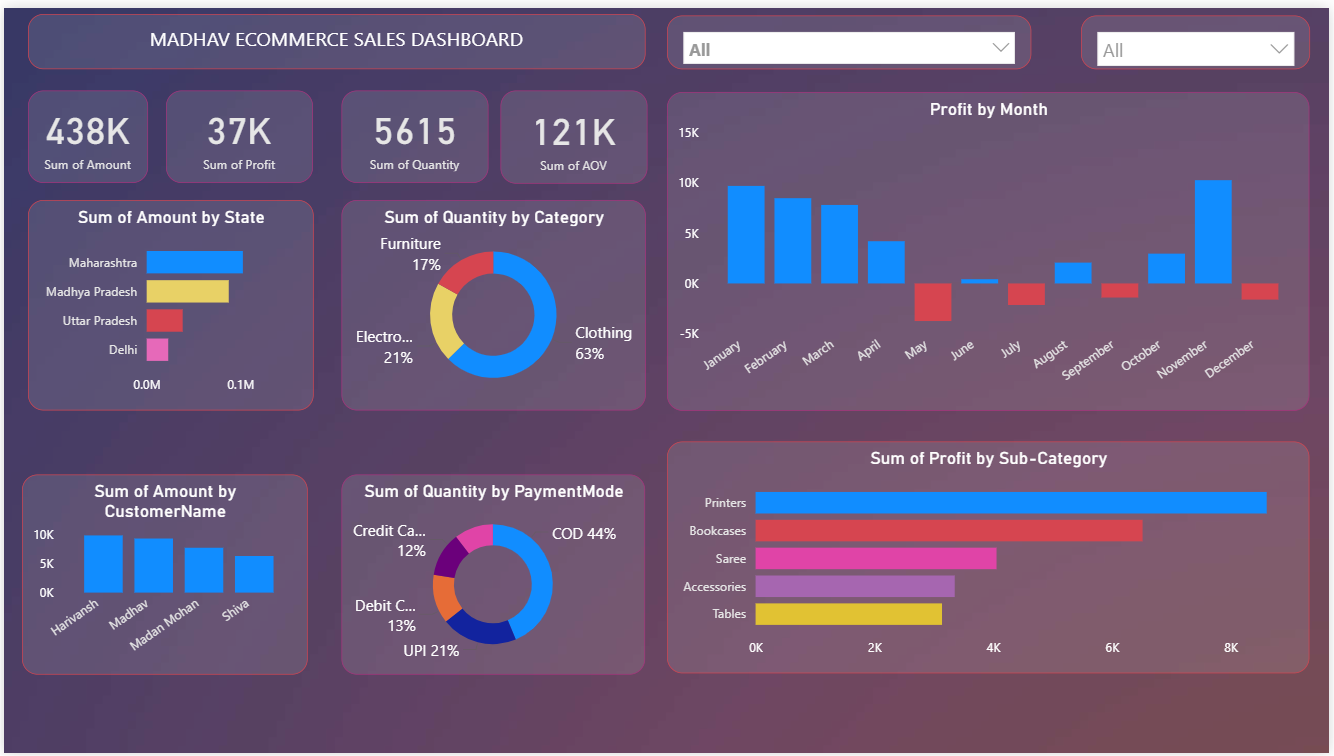

What the dashboard file says about the page in this screenshot:
{"tool":"powerbi","page":{"name":"Page 1","canvas":[1280,720],"ordinal":0},"visuals":[{"type":"columnChart","title":" Profit by Month","fields":{"Y":["Details.Profit"],"Category":["Orders.Order Date.Variation.Date Hierarchy.Month"]},"box":[640.3,80.6,621,308.1],"z":0},{"type":"barChart","fields":{"Category":["Details.Sub-Category"],"Y":["Details.Profit"]},"box":[640.3,419.4,621,224.2],"z":1000},{"type":"donutChart","fields":{"Category":["Details.Category"],"Y":["Details.Quantity"]},"box":[326,185,294,203],"z":2000},{"type":"donutChart","fields":{"Y":["Details.Quantity"],"Category":["Details.PaymentMode"]},"box":[325.8,450,293.5,193.5],"z":3000},{"type":"card","fields":{"Values":["Details.Amount"]},"box":[23,80,116,89],"z":4000},{"type":"card","fields":{"Values":["Details.Profit"]},"box":[157,80,142,89],"z":5000},{"type":"card","fields":{"Values":["Details.Quantity"]},"box":[326,80,142,89],"z":6000},{"type":"card","fields":{"Values":["Details.AOV"]},"box":[479,80,142,90],"z":7000},{"type":"barChart","fields":{"Category":["Orders.State"],"Y":["Details.Amount"]},"box":[23,185,276,203],"z":8000},{"type":"columnChart","fields":{"Category":["Orders.CustomerName"],"Y":["Details.Amount"]},"box":[17.7,450,275.8,193.5],"z":9000},{"type":"textbox","box":[22.6,6.5,596.8,53.2],"z":10000},{"type":"slicer","fields":{"Values":["Orders.Order Date.Variation.Date Hierarchy.Month"]},"box":[641.1,7.1,351.8,51.8],"z":11000},{"type":"slicer","fields":{"Values":["Orders.State"]},"box":[1041.1,7.1,221.4,51.8],"z":12000}]}

Visuals, with their boxes in screenshot pixels (x1, y1, x2, y2), scaled from the page's 1280x720 canvas onto the 1334x756 screenshot:
" Profit by Month" columnChart: detection(667, 85, 1315, 408)
barChart - Details.Sub-Category x Details.Profit: detection(667, 440, 1315, 676)
donutChart - Details.Category x Details.Quantity: detection(340, 194, 646, 407)
donutChart - Details.Quantity x Details.PaymentMode: detection(340, 472, 645, 676)
card - Details.Amount: detection(24, 84, 145, 177)
card - Details.Profit: detection(164, 84, 312, 177)
card - Details.Quantity: detection(340, 84, 488, 177)
card - Details.AOV: detection(499, 84, 647, 178)
barChart - Orders.State x Details.Amount: detection(24, 194, 312, 407)
columnChart - Orders.CustomerName x Details.Amount: detection(18, 472, 306, 676)
textbox: detection(24, 7, 646, 63)
slicer - Orders.Order Date.Variation.Date Hierarchy.Month: detection(668, 7, 1035, 62)
slicer - Orders.State: detection(1085, 7, 1316, 62)
